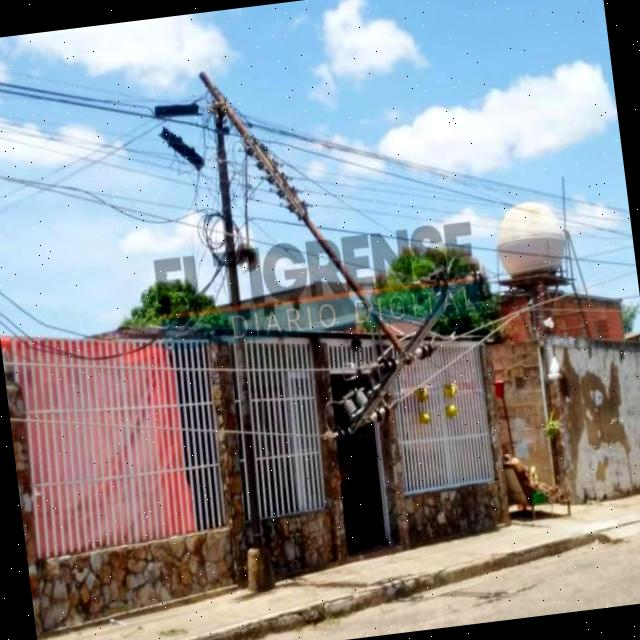Broken Pole: (196, 69, 482, 591)
